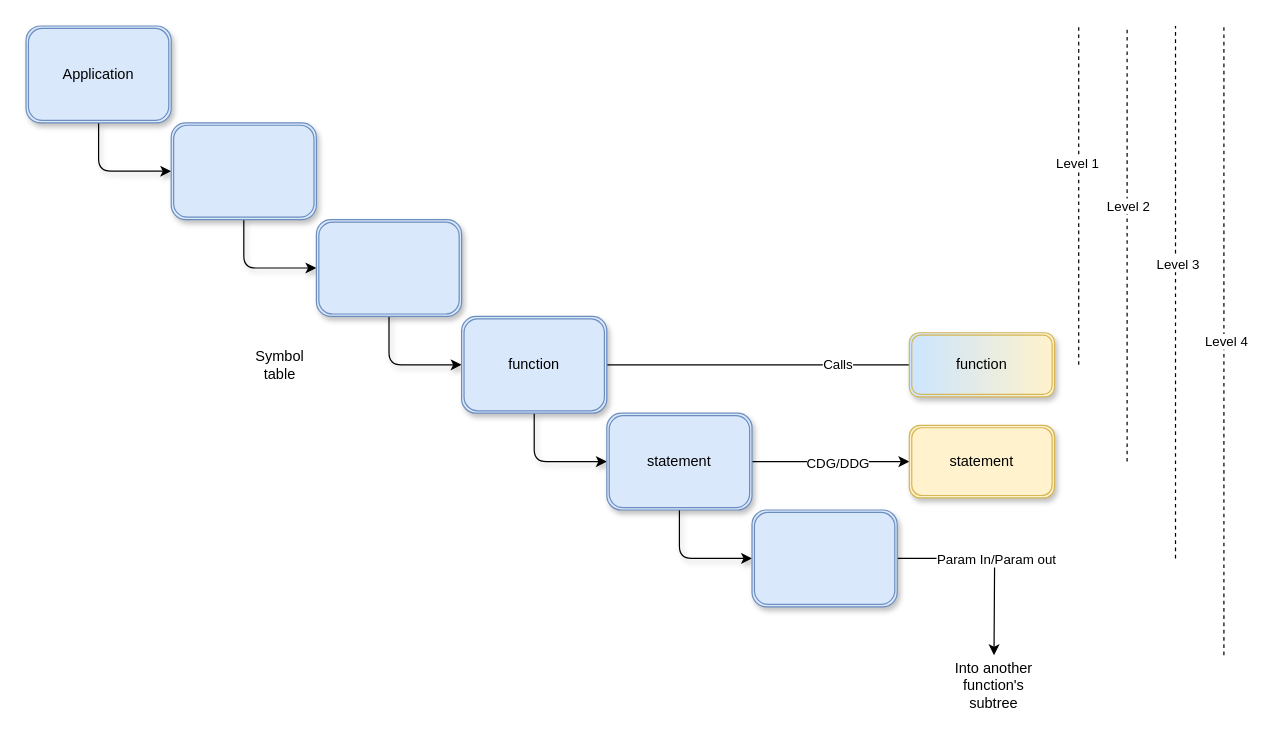
Image size: 1268x732. Some labels were removed from this diagram. Here are the shapes that lost their labels. From the top down, the centre of each, then its label:
At point 244,172: "File".
At point 389,269: "module/class".
At point 825,559: "expression".
